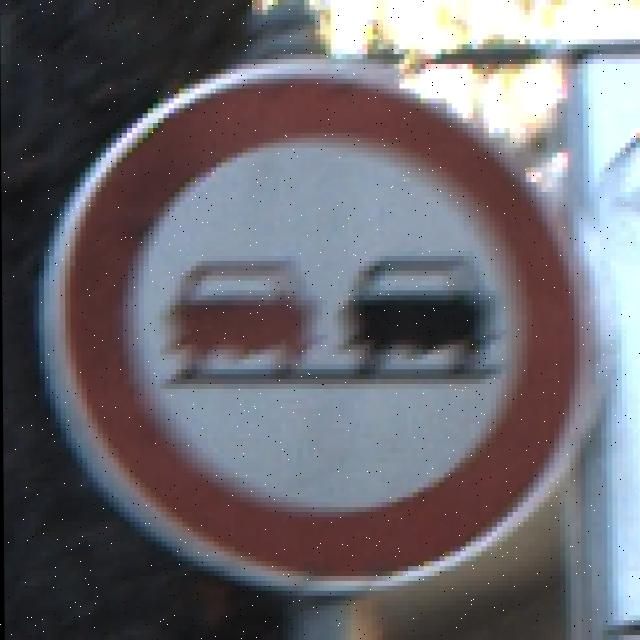no_overtaking: (72, 95, 589, 582)
